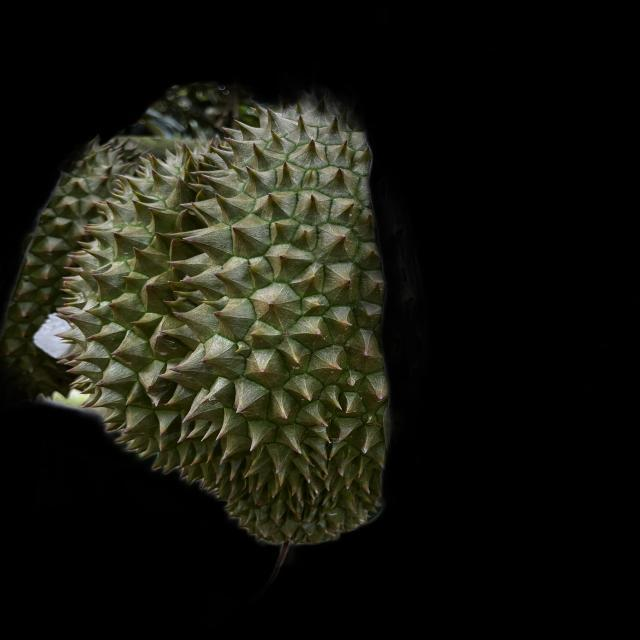immature: (54, 106, 392, 549)
